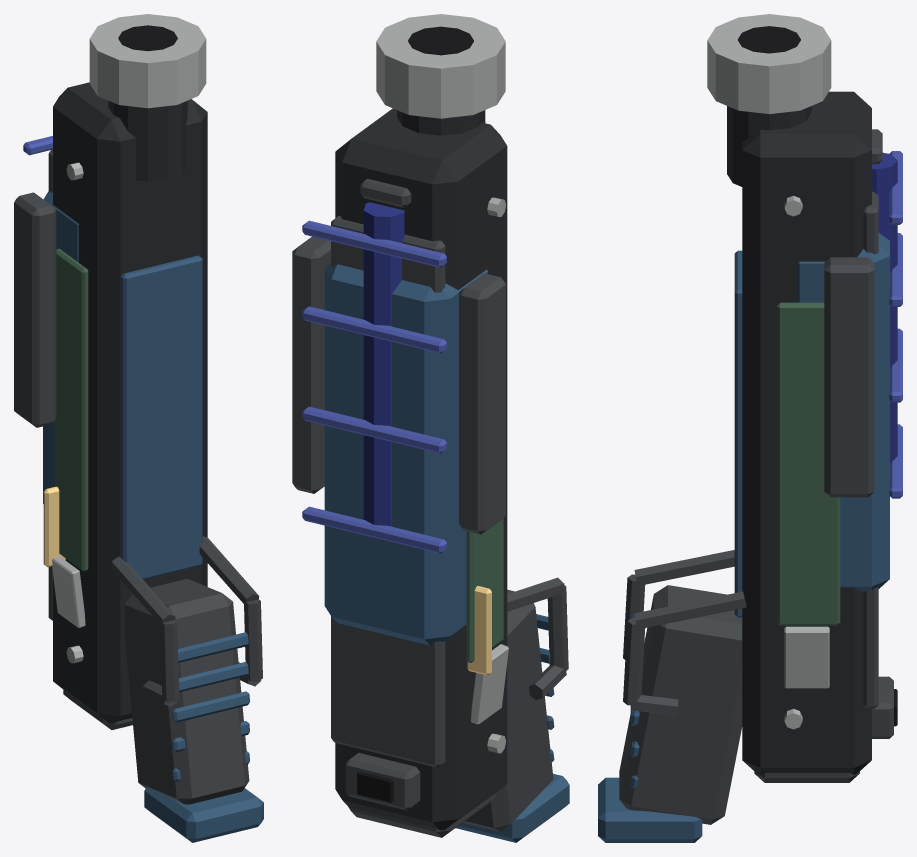
The model's file is weapon_laser_pistol.fbx.
The picture shows the model from 3 angles, left to right: view 1: azimuth 30°, elevation 25°; view 2: azimuth 150°, elevation 25°; view 3: azimuth 270°, elevation 25°; orthographic projection. The views are drawn at different scales.
Visible parts, largest first — view 1: weapon_laser_pistol; view 2: weapon_laser_pistol; view 3: weapon_laser_pistol.
Boxes of the visible parts, x1=… form: weapon_laser_pistol: x1=14, y1=14, x2=263, y2=842; weapon_laser_pistol: x1=292, y1=14, x2=569, y2=842; weapon_laser_pistol: x1=598, y1=14, x2=902, y2=842.
Size of the model in its own units: 0.142 by 0.575 by 0.202.
